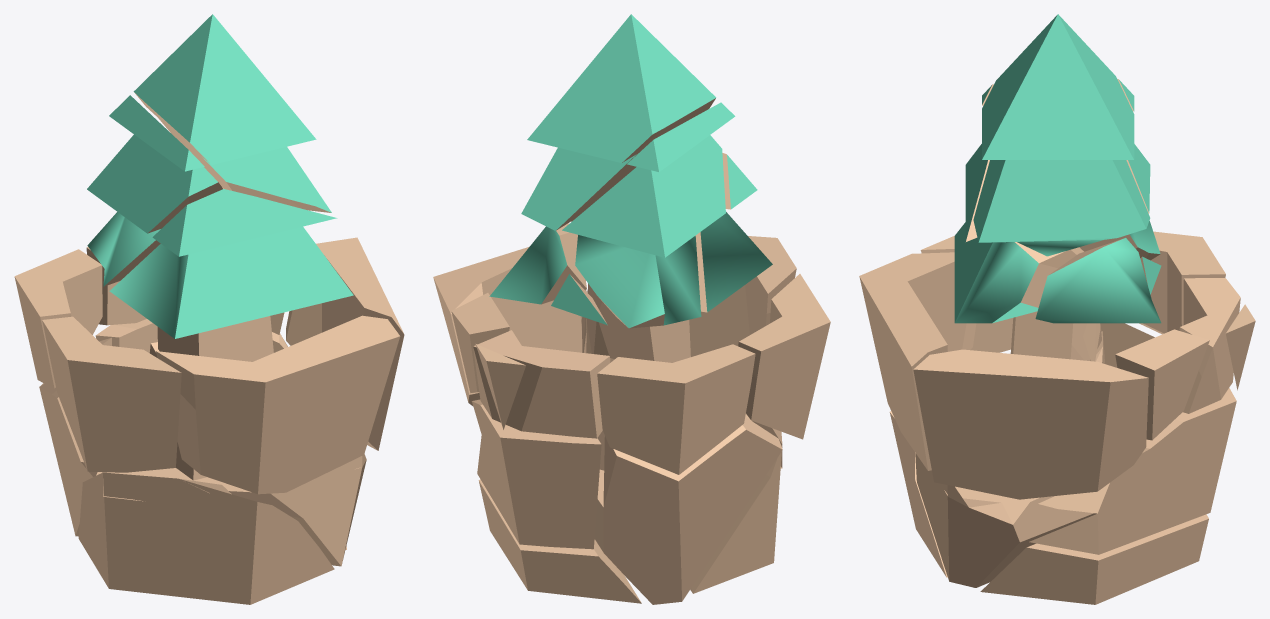
File: plant1_broken.glb
The picture shows the model from 3 angles, left to right: view 1: azimuth 30°, elevation 25°; view 2: azimuth 150°, elevation 25°; view 3: azimuth 270°, elevation 25°; orthographic projection.
Parts seen in each view (by area): view 1: plantSmall1(Clone)_cell.015, plantSmall1(Clone)_cell.003, plantSmall1(Clone)_cell.008, plantSmall1(Clone)_cell.012, plantSmall1(Clone)_cell.005, plantSmall1(Clone)_cell.004, plantSmall1(Clone)_cell, plantSmall1(Clone)_cell.001, plantSmall1(Clone)_cell.006, plantSmall1(Clone)_cell.007, plantSmall1(Clone)_cell.009; view 2: plantSmall1(Clone)_cell.004, plantSmall1(Clone)_cell, plantSmall1(Clone)_cell.012, plantSmall1(Clone)_cell.001, plantSmall1(Clone)_cell.007, plantSmall1(Clone)_cell.003, plantSmall1(Clone)_cell.005, plantSmall1(Clone)_cell.009, plantSmall1(Clone)_cell.006, plantSmall1(Clone)_cell.011, plantSmall1(Clone)_cell.015, plantSmall1(Clone)_cell.008 (+4 smaller); view 3: plantSmall1(Clone)_cell.012, plantSmall1(Clone)_cell.006, plantSmall1(Clone)_cell.007, plantSmall1(Clone)_cell.015, plantSmall1(Clone)_cell.003, plantSmall1(Clone)_cell, plantSmall1(Clone)_cell.011, plantSmall1(Clone)_cell.010, plantSmall1(Clone)_cell.020, plantSmall1(Clone)_cell.009, plantSmall1(Clone)_cell.001, plantSmall1(Clone)_cell.004 (+3 smaller).
Part boxes in pixels (x1,y1,x2,y2): plantSmall1(Clone)_cell.015: (156,315,400,494); plantSmall1(Clone)_cell.003: (109,189,353,361); plantSmall1(Clone)_cell.008: (78,472,334,604); plantSmall1(Clone)_cell.012: (133,14,331,212); plantSmall1(Clone)_cell.005: (42,316,181,472); plantSmall1(Clone)_cell.004: (87,95,222,286); plantSmall1(Clone)_cell: (39,337,366,566); plantSmall1(Clone)_cell.001: (14,249,102,388); plantSmall1(Clone)_cell.006: (286,237,404,450); plantSmall1(Clone)_cell.007: (95,319,287,352); plantSmall1(Clone)_cell.009: (86,247,146,325); plantSmall1(Clone)_cell.004: (562,102,735,328); plantSmall1(Clone)_cell: (594,417,782,604); plantSmall1(Clone)_cell.012: (521,14,716,230); plantSmall1(Clone)_cell.001: (597,344,755,474); plantSmall1(Clone)_cell.007: (472,399,601,549); plantSmall1(Clone)_cell.003: (571,153,772,362); plantSmall1(Clone)_cell.005: (738,274,830,439); plantSmall1(Clone)_cell.009: (473,330,610,438); plantSmall1(Clone)_cell.006: (433,246,586,405); plantSmall1(Clone)_cell.011: (478,479,641,603); plantSmall1(Clone)_cell.015: (689,236,796,356); plantSmall1(Clone)_cell.008: (690,414,782,593); plantSmall1(Clone)_cell.012: (973,14,1150,256); plantSmall1(Clone)_cell.006: (913,349,1148,499); plantSmall1(Clone)_cell.007: (1029,388,1236,554); plantSmall1(Clone)_cell.015: (859,252,966,470); plantSmall1(Clone)_cell.003: (954,144,1101,360); plantSmall1(Clone)_cell: (915,323,1154,587); plantSmall1(Clone)_cell.011: (980,514,1208,604); plantSmall1(Clone)_cell.010: (1035,238,1161,361); plantSmall1(Clone)_cell.020: (1115,329,1209,440); plantSmall1(Clone)_cell.009: (1179,278,1240,413); plantSmall1(Clone)_cell.001: (1139,231,1225,334); plantSmall1(Clone)_cell.004: (982,79,1160,260).
Size of the model in its own units: 0.0947 by 0.14 by 0.0947.
